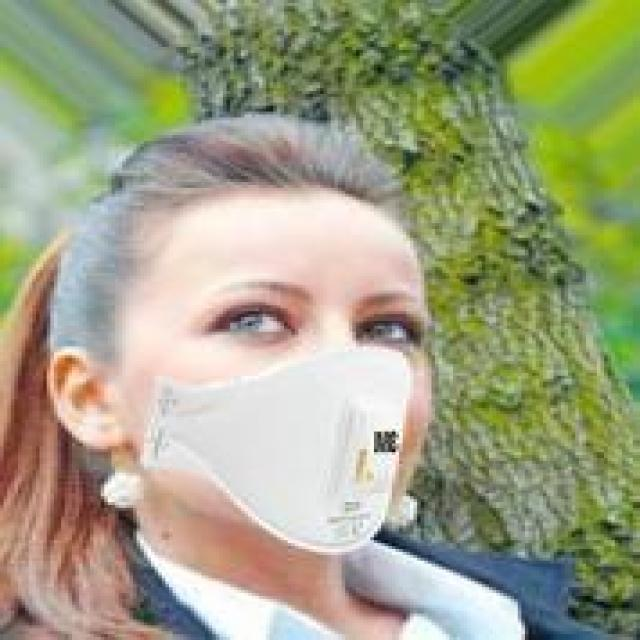mask: (32, 141, 464, 561)
